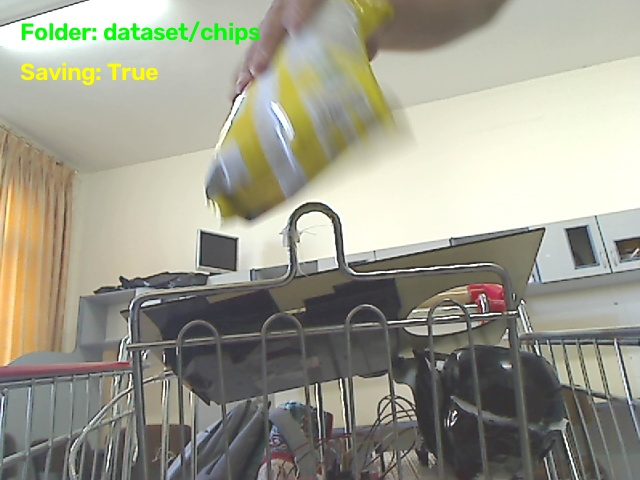chips: (206, 0, 394, 219)
